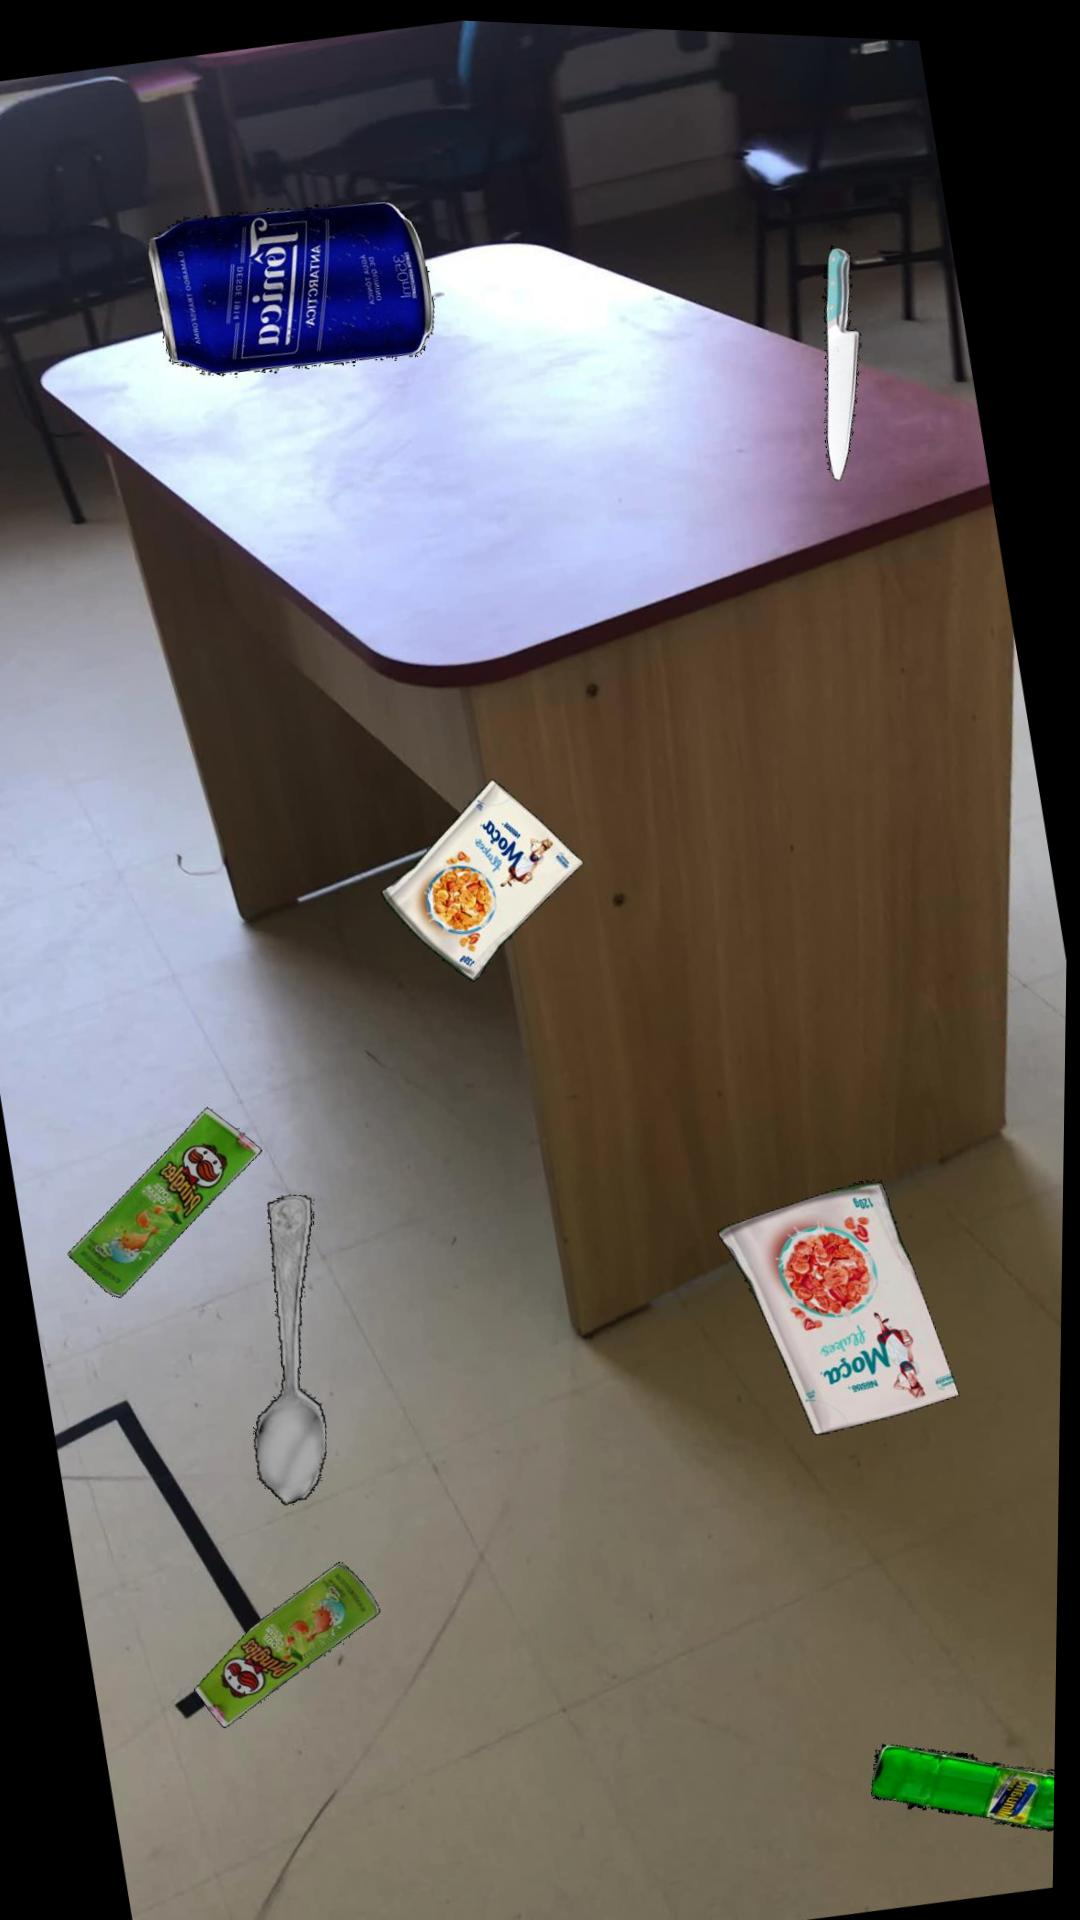cleaner: (874, 1733, 1060, 1820)
corn flakes: (719, 1171, 961, 1425), (381, 773, 584, 975)
knife: (820, 235, 860, 471)
pringles: (69, 1102, 262, 1294), (196, 1556, 382, 1724)
spoon: (256, 1189, 328, 1501)
tonic: (146, 195, 433, 372)
